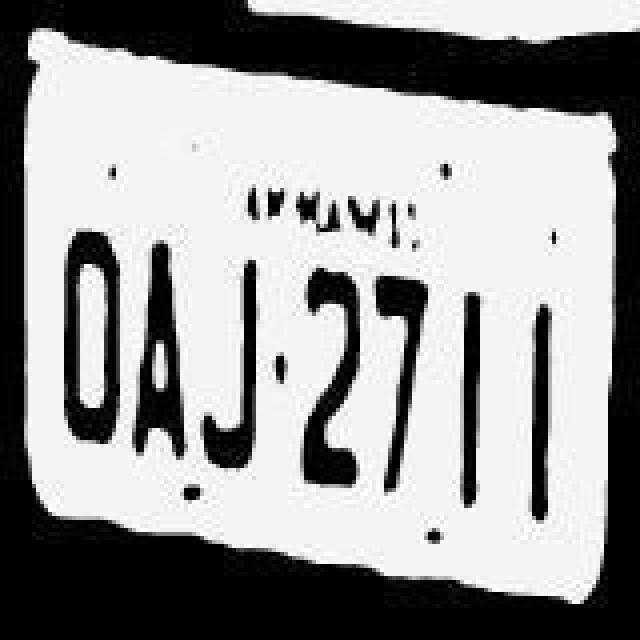1: (514, 270, 566, 546), (450, 262, 502, 522)
2: (290, 252, 366, 508)
7: (364, 256, 436, 512)
A: (124, 230, 196, 482)
J: (196, 226, 276, 478)
O: (46, 216, 122, 472)
